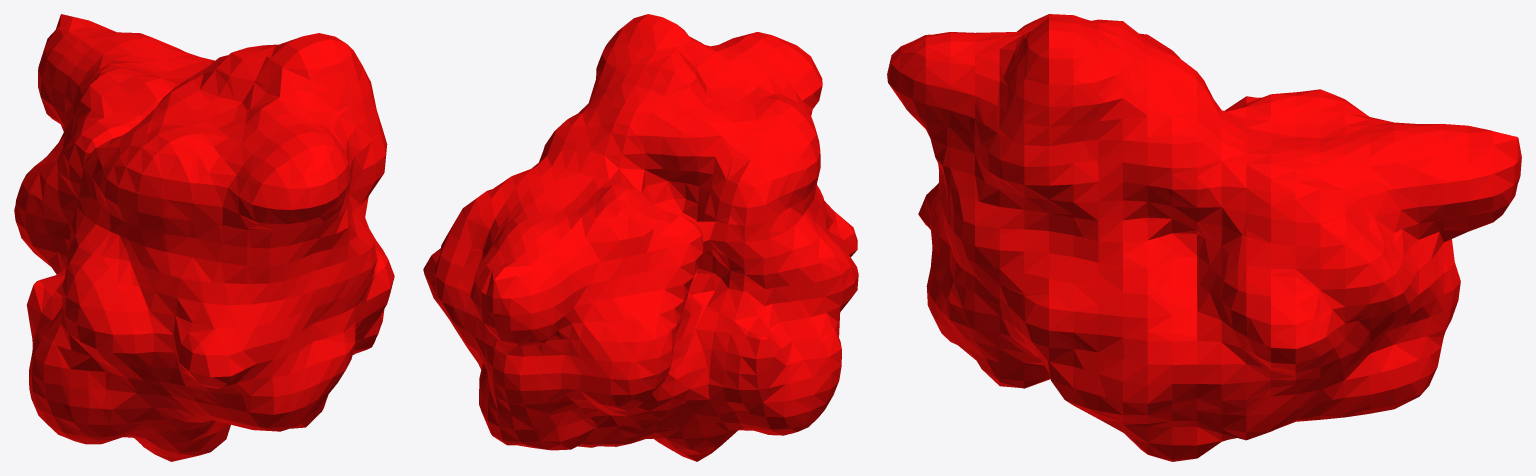
Rendered from uxaB_coarse.dae.
3 renders of one model, left to right at view 1: azimuth 30°, elevation 25°; view 2: azimuth 150°, elevation 25°; view 3: azimuth 270°, elevation 25°, orthographic. The views are drawn at different scales.
Visible parts, largest first — view 1: uxaB; view 2: uxaB; view 3: uxaB.
Boxes of the visible parts, x1,y1,x2,y2 form: uxaB: [14, 14, 394, 461]; uxaB: [423, 14, 858, 461]; uxaB: [887, 14, 1521, 461].
Bounding box in the file's own units: 60.85 × 64.71 × 81.12.
